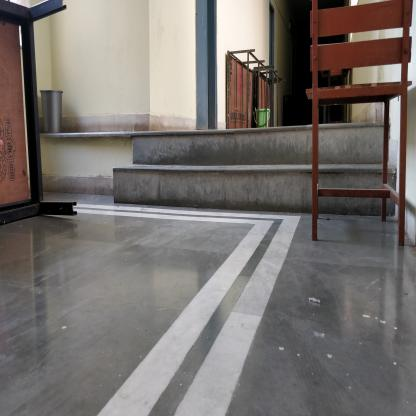stairs: (135, 123, 310, 220)
